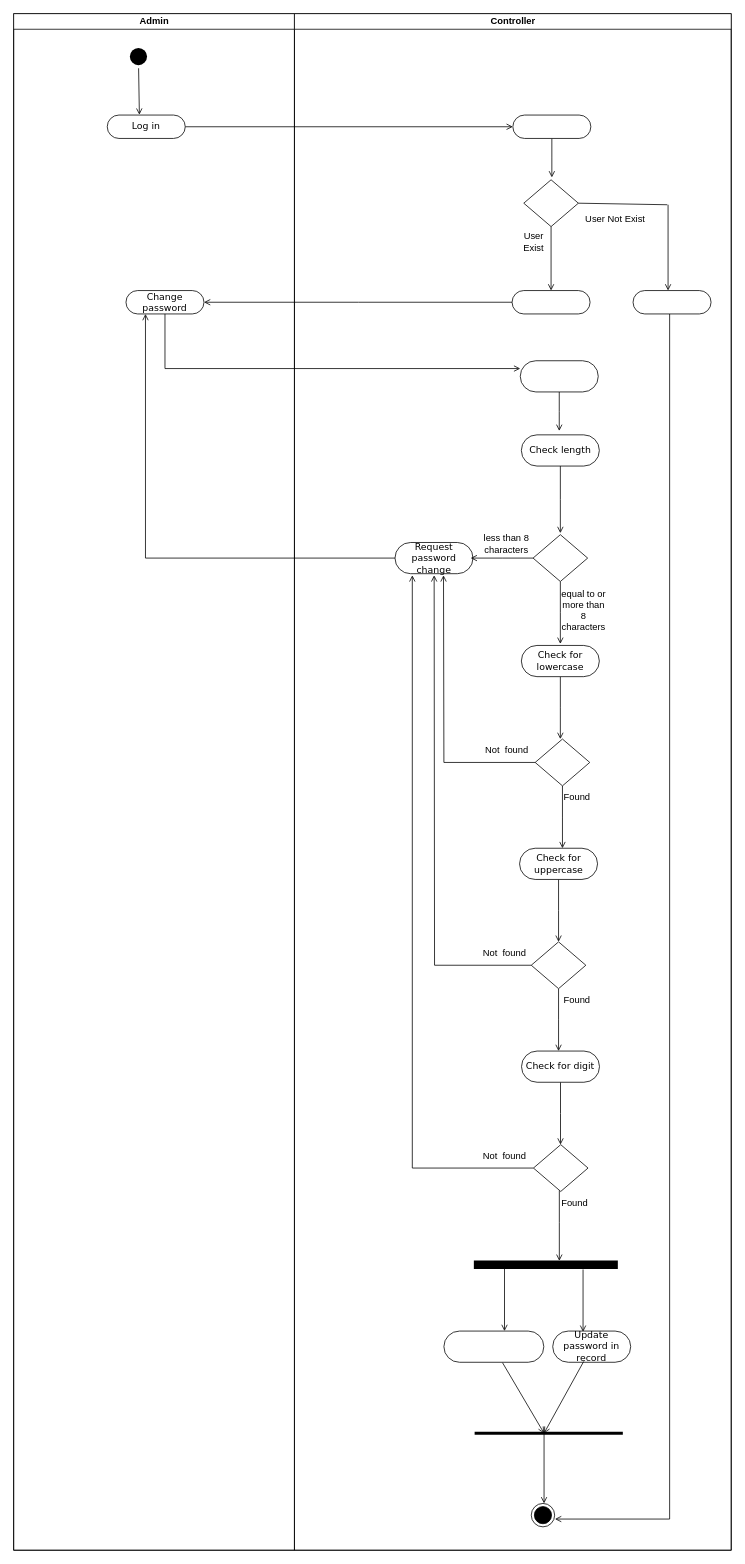
Some shapes in this 745 by 1564 pixel diagram are drawn without their labels. Each missing label, with the centre of its shape:
"Allow access" goes at (550,302).
"Deny access" goes at (671,302).
"Notify successful password change" goes at (493,1346).
"Verify Login Info" goes at (551,126).
"Verify password strength" goes at (558,376).
